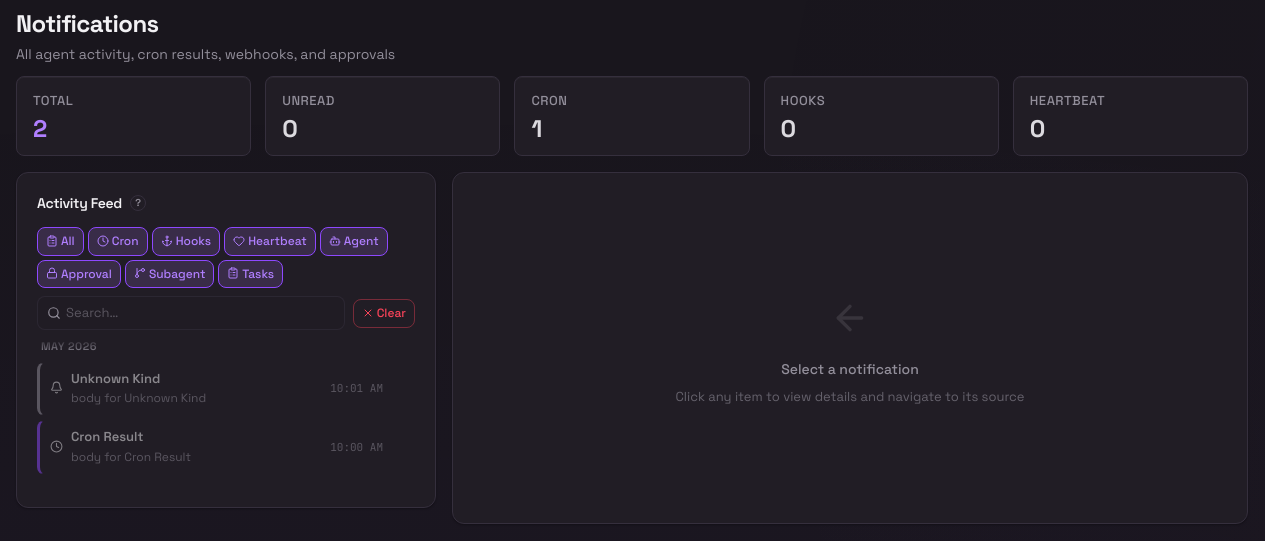
NotificationsPage multi-select filter › hides unknown-kind notifications once any chip is deselected
What coordinates should you click on to do the following:
click the button "Subagent"
I would click on:
 (170, 274)
Its box is [125,260,214,288].
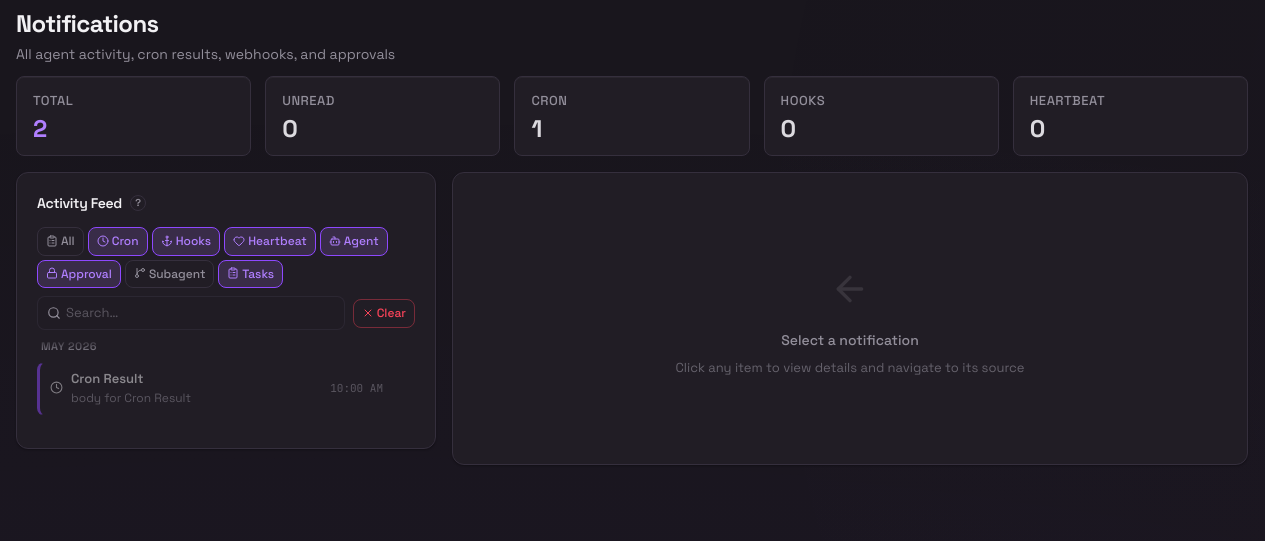
Expected: the text "Cron Result" is shown, [71,370,143,386]
Expected: the button "Unknown Kind" is gone
